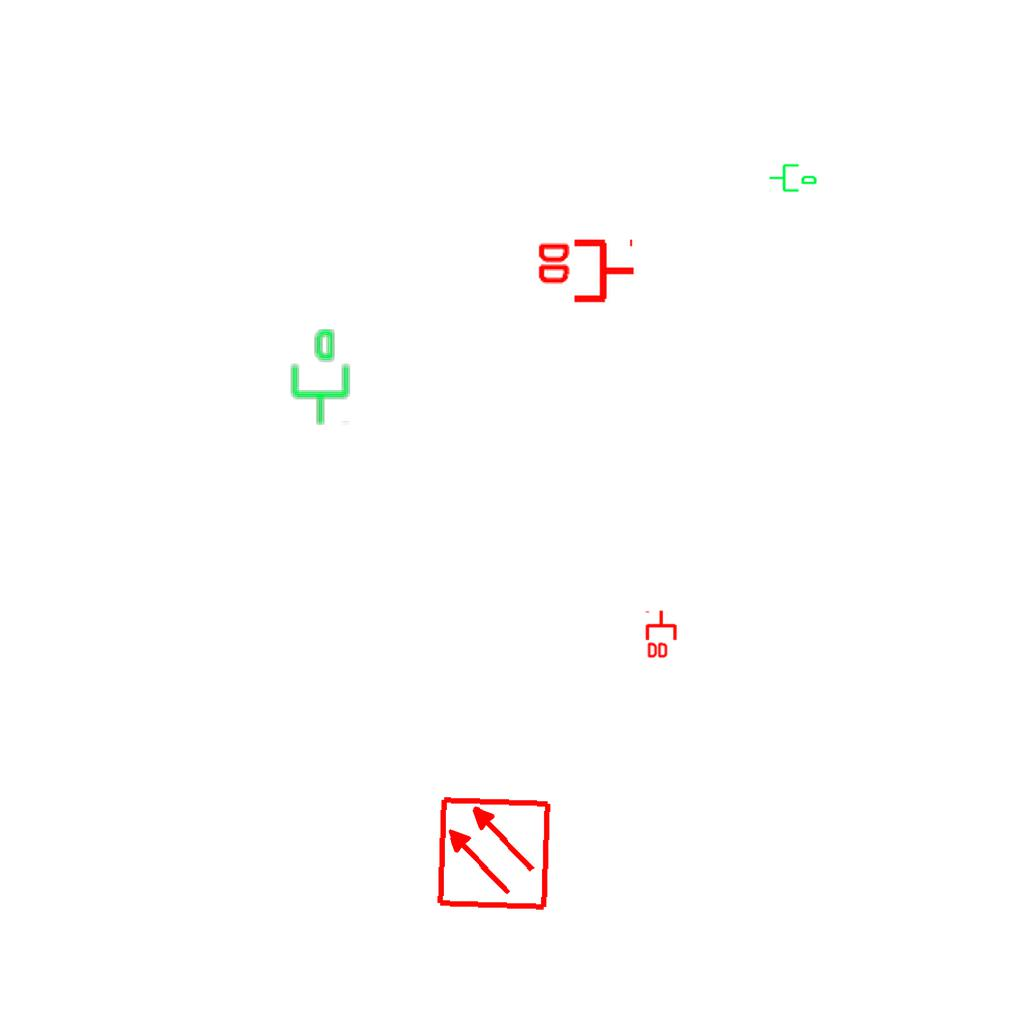Datenanschluss_einfach: (284, 327, 353, 427), (768, 160, 818, 194)
Datenanschluss_zweifach: (534, 238, 637, 307), (645, 609, 679, 660)
RMO_Rauchmelder_optischer: (435, 795, 552, 912)
